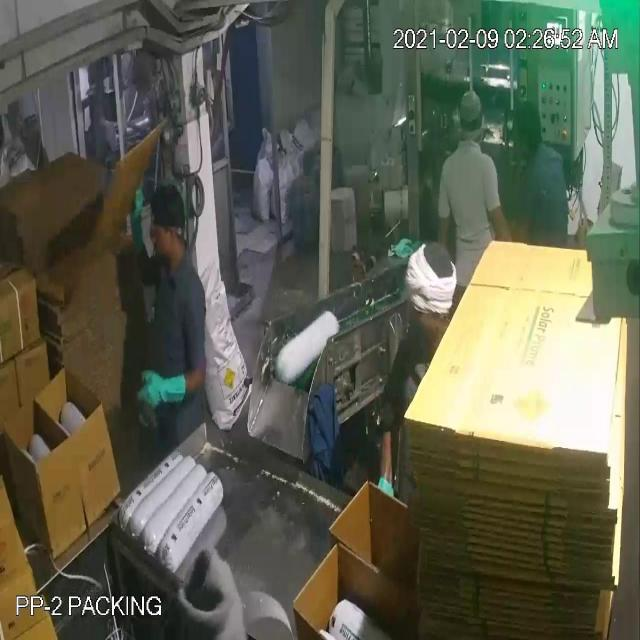Gloves: (26, 63, 165, 387)
